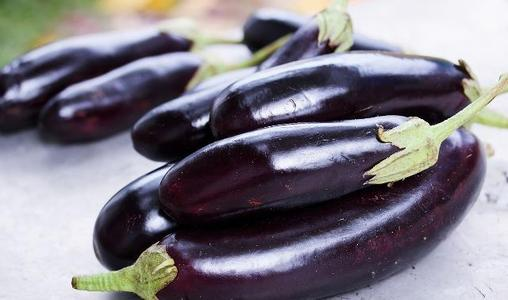fruit_eggplant: (157, 108, 457, 224), (204, 46, 485, 136)
